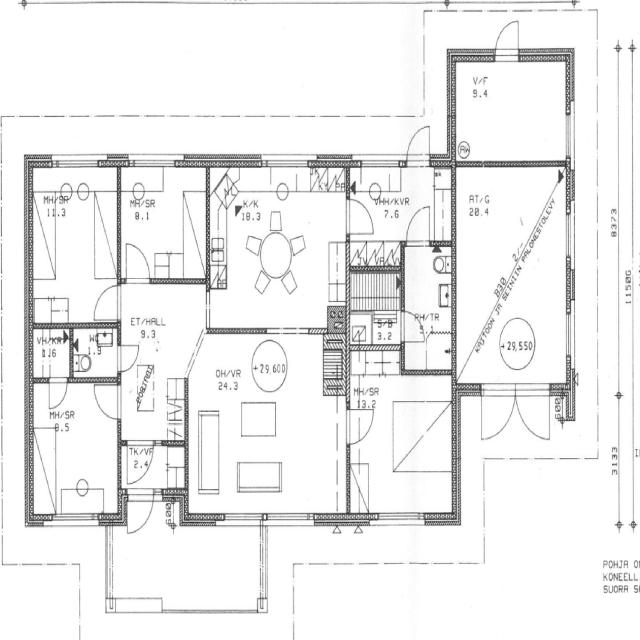door: (477, 381, 527, 447), (89, 348, 123, 413), (344, 192, 381, 240), (122, 438, 156, 487), (121, 236, 153, 288), (403, 200, 435, 250), (90, 378, 124, 423), (492, 15, 522, 64), (125, 488, 155, 536), (91, 280, 123, 324), (344, 405, 378, 446), (405, 120, 433, 169), (115, 336, 142, 376), (45, 374, 70, 412), (400, 305, 424, 344)
window: (365, 506, 428, 536), (43, 507, 106, 534), (561, 288, 579, 369), (260, 507, 320, 531), (560, 193, 578, 269), (211, 509, 265, 532), (561, 98, 579, 163), (128, 150, 182, 168), (52, 152, 112, 168), (263, 151, 313, 169), (357, 152, 402, 169)
zone: (190, 330, 351, 516), (346, 354, 456, 524), (208, 167, 350, 297), (27, 173, 122, 325), (27, 381, 122, 522), (448, 58, 570, 165), (119, 280, 194, 446), (118, 165, 210, 282), (401, 242, 456, 372), (348, 264, 402, 324), (69, 324, 120, 384), (30, 323, 72, 381), (371, 309, 401, 348)
